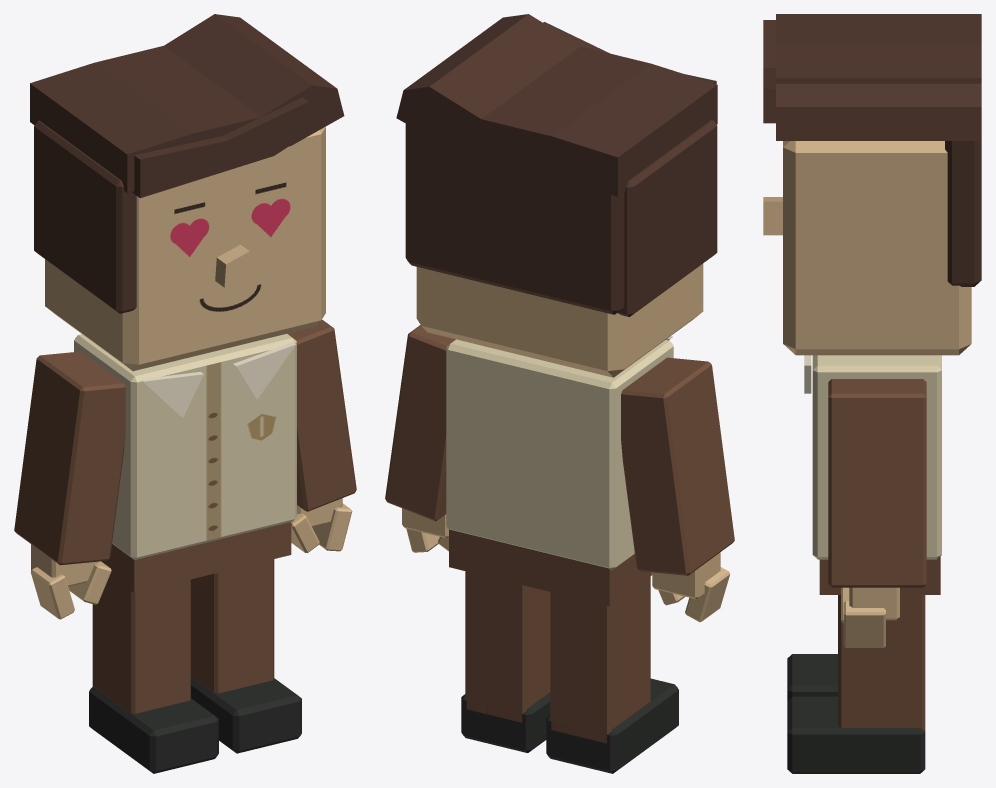
File: apaixonado.obj
3 views of the same model, side by side, from view 1: azimuth 30°, elevation 25°; view 2: azimuth 150°, elevation 25°; view 3: azimuth 270°, elevation 25° (orthographic). The views are drawn at different scales.
Parts seen in each view (by area): view 1: Explorador_HelloYotta; view 2: Explorador_HelloYotta; view 3: Explorador_HelloYotta.
Part boxes in pixels (x1,y1,x2,y2): Explorador_HelloYotta: (14, 14, 356, 773); Explorador_HelloYotta: (385, 14, 734, 773); Explorador_HelloYotta: (763, 14, 981, 773).
Size of the model in its own units: 1.31 by 2.72 by 0.775.
Materials: 1 (1 with a texture image).
